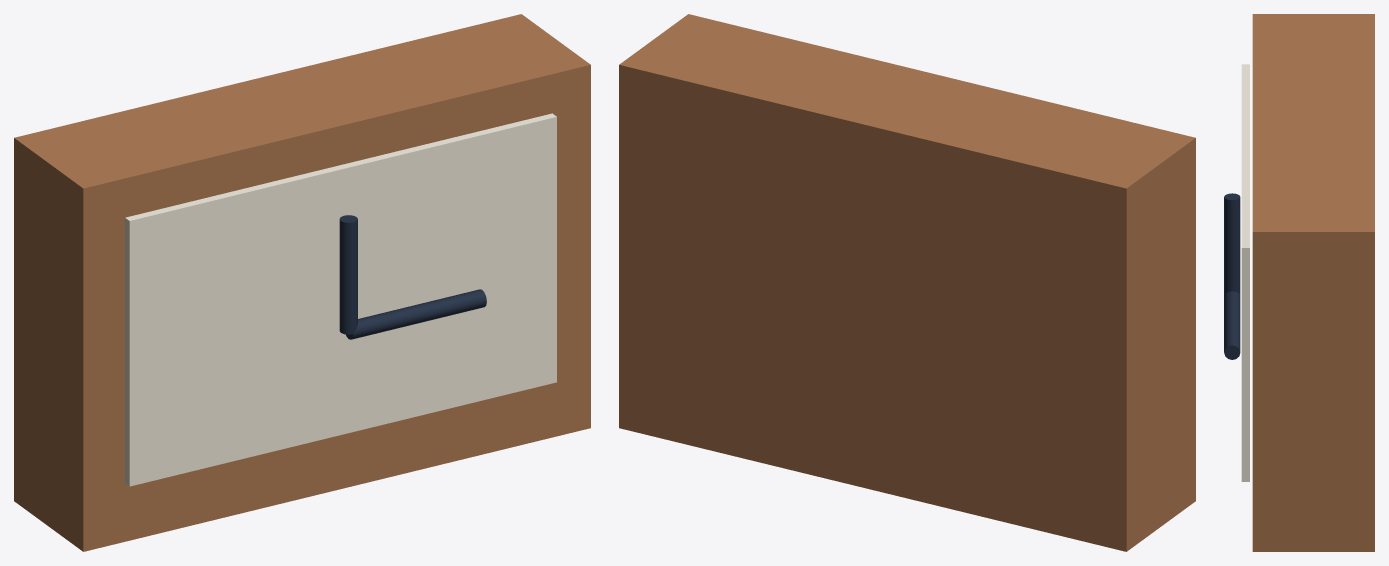
File: officeDeskClock.glb
The picture shows the model from 3 angles, left to right: view 1: azimuth 30°, elevation 25°; view 2: azimuth 150°, elevation 25°; view 3: azimuth 270°, elevation 25°; orthographic projection. The views are drawn at different scales.
Bounding box in the file's own units: 0.19 × 0.13 × 0.0555.
